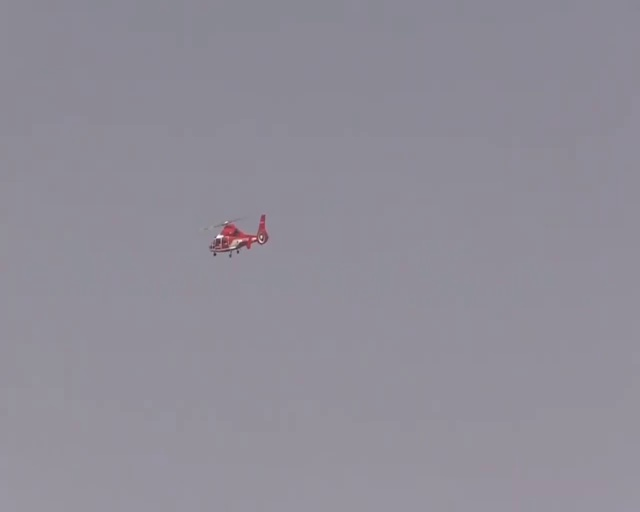HELICOPTER: (203, 214, 270, 257)
